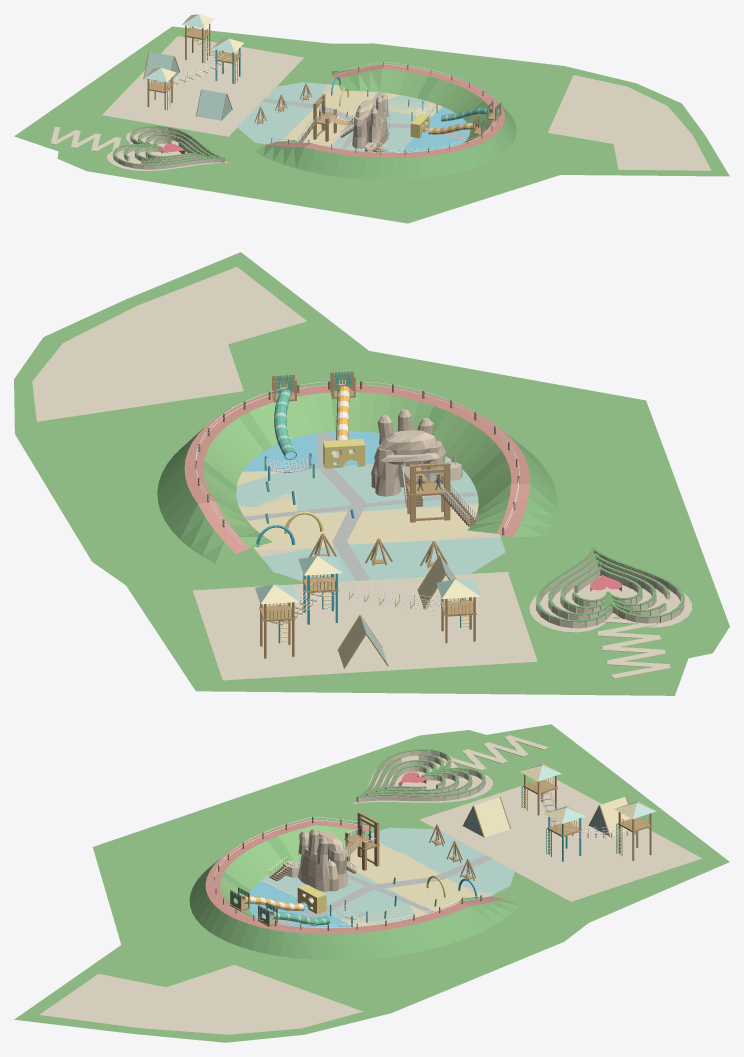
Rendered from giant-forest.glb.
The picture shows the model from 3 angles, top to bottom: view 1: azimuth 30°, elevation 25°; view 2: azimuth 150°, elevation 25°; view 3: azimuth 270°, elevation 25°; orthographic projection. The views are drawn at different scales.
Visible parts, largest first — view 1: Giant Forest sunken courtyard, rock hand, cave and chair; view 2: Giant Forest sunken courtyard, rock hand, cave and chair; view 3: Giant Forest sunken courtyard, rock hand, cave and chair.
Part boxes in pixels (box(x1,y1,x2,y2)): Giant Forest sunken courtyard, rock hand, cave and chair: box(14, 14, 729, 223); Giant Forest sunken courtyard, rock hand, cave and chair: box(14, 252, 729, 695); Giant Forest sunken courtyard, rock hand, cave and chair: box(14, 724, 729, 1042).
Size of the model in its own units: 113 by 9.09 by 107.
